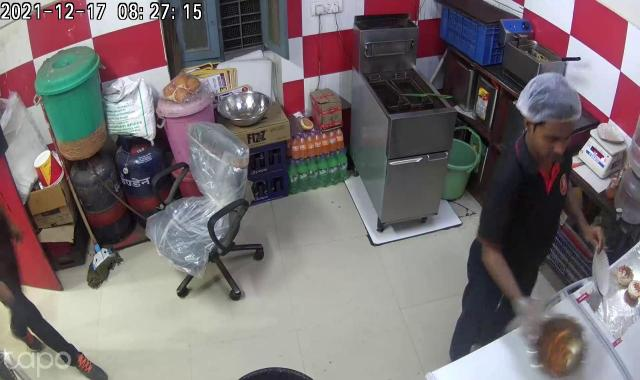hairnet: (515, 71, 585, 127)
